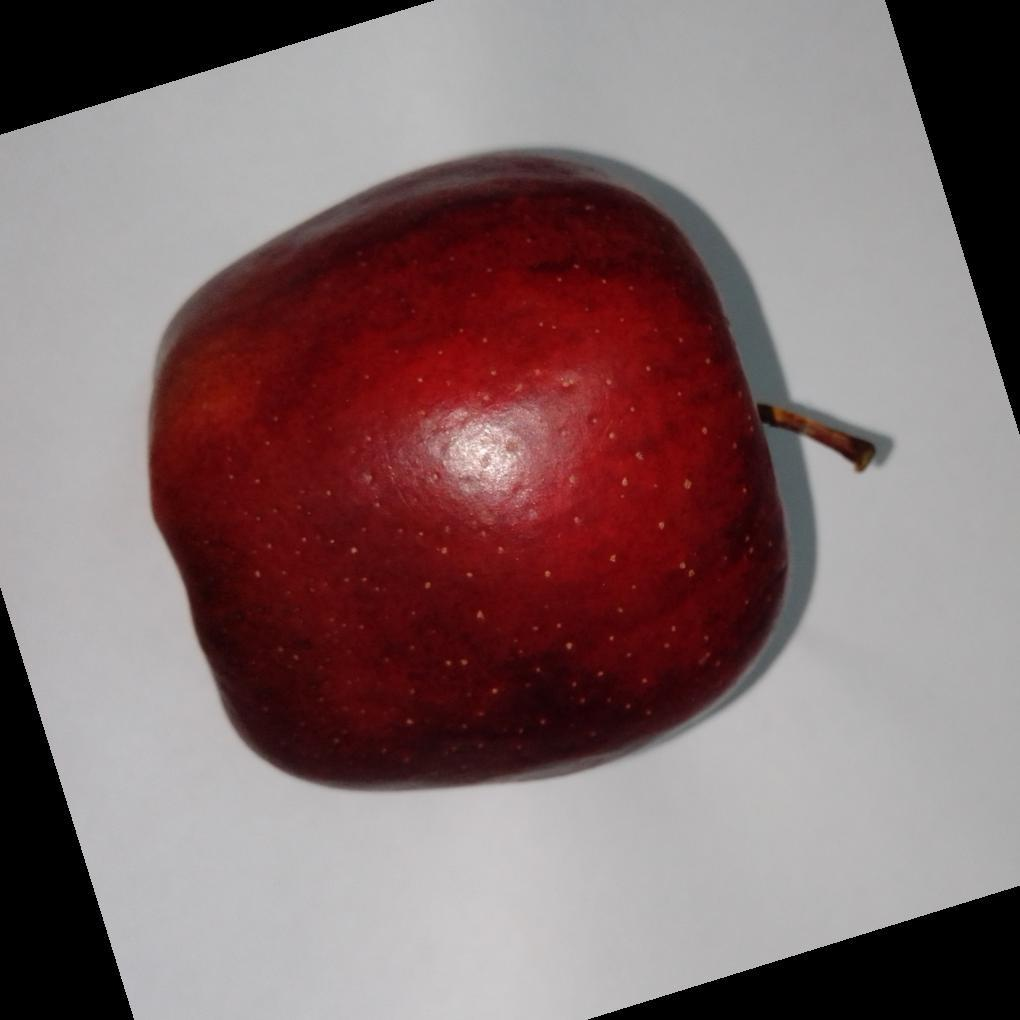FreshOrange: (146, 151, 859, 797)
